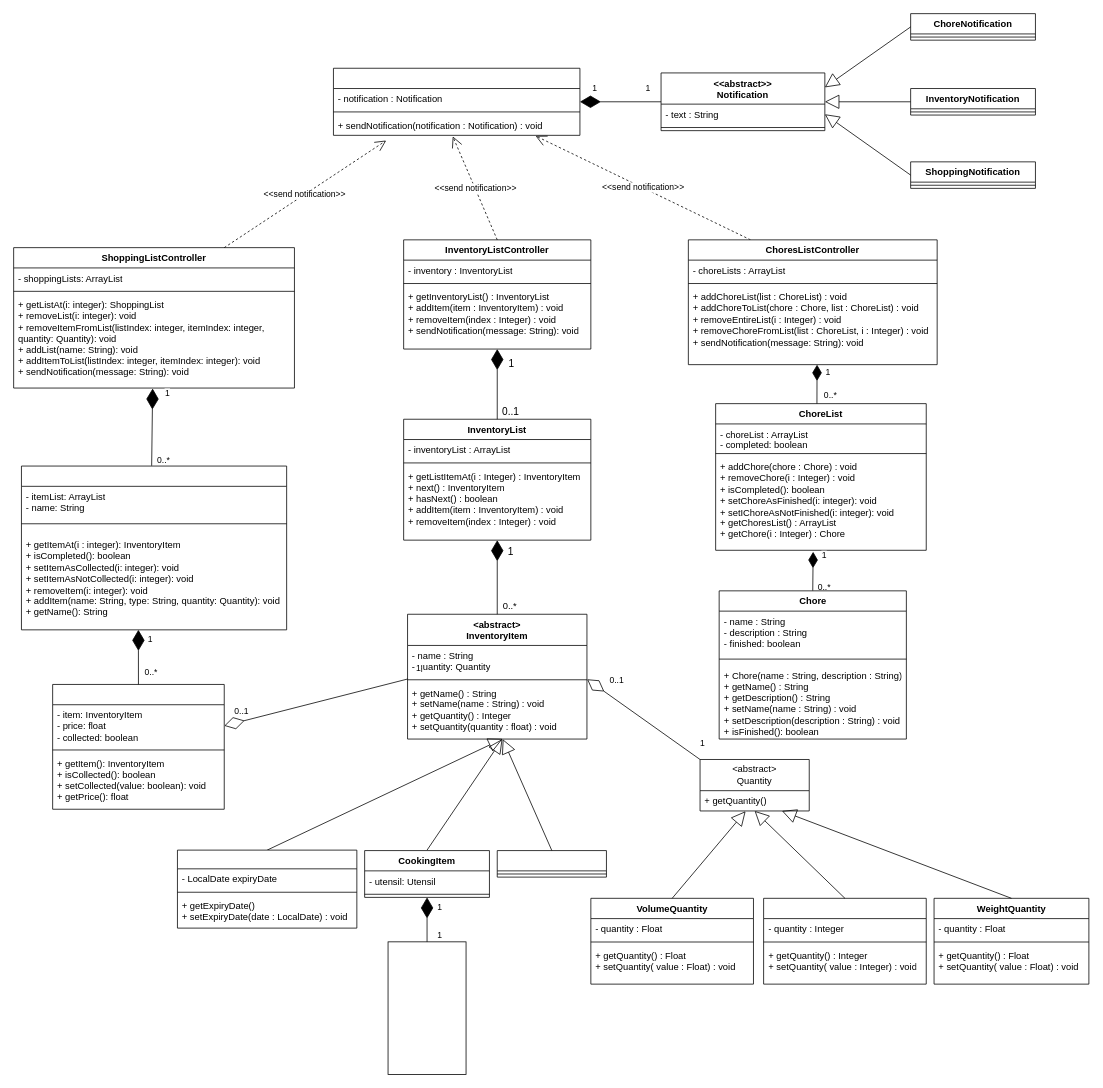
Image size: 1103x1088. Some labels were removed from this diagram. Here are the shapes that lost their labels. From the top down, the box of each, then its label:
(333, 67, 580, 135): NotificationController
(21, 465, 287, 630): ShoppingList
(52, 684, 224, 809): ShoppingItem
(496, 850, 606, 877): OtherItem
(177, 849, 357, 928): FoodItem
(763, 898, 926, 984): AmountQuantity
(387, 941, 466, 1074): <<Enumeration>> Utensil Fork Knife Spoon Oven Mixer AirFryer Stove Pan
